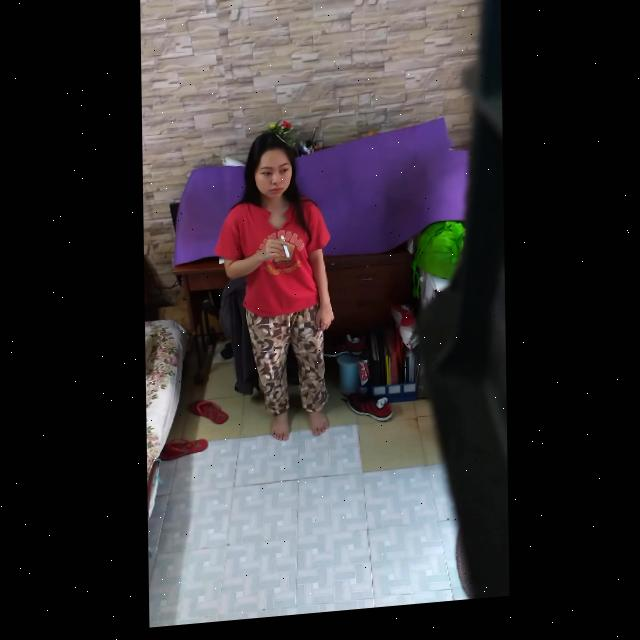cigarette: (280, 241, 289, 264)
